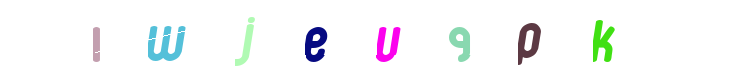1: (127, 0, 207, 80)
9: (347, 0, 427, 80)
E: (330, 0, 410, 80)
J: (275, 0, 355, 80)
K: (562, 0, 642, 80)
P: (486, 0, 566, 80)
U: (337, 0, 417, 80)
W: (172, 0, 252, 80)
